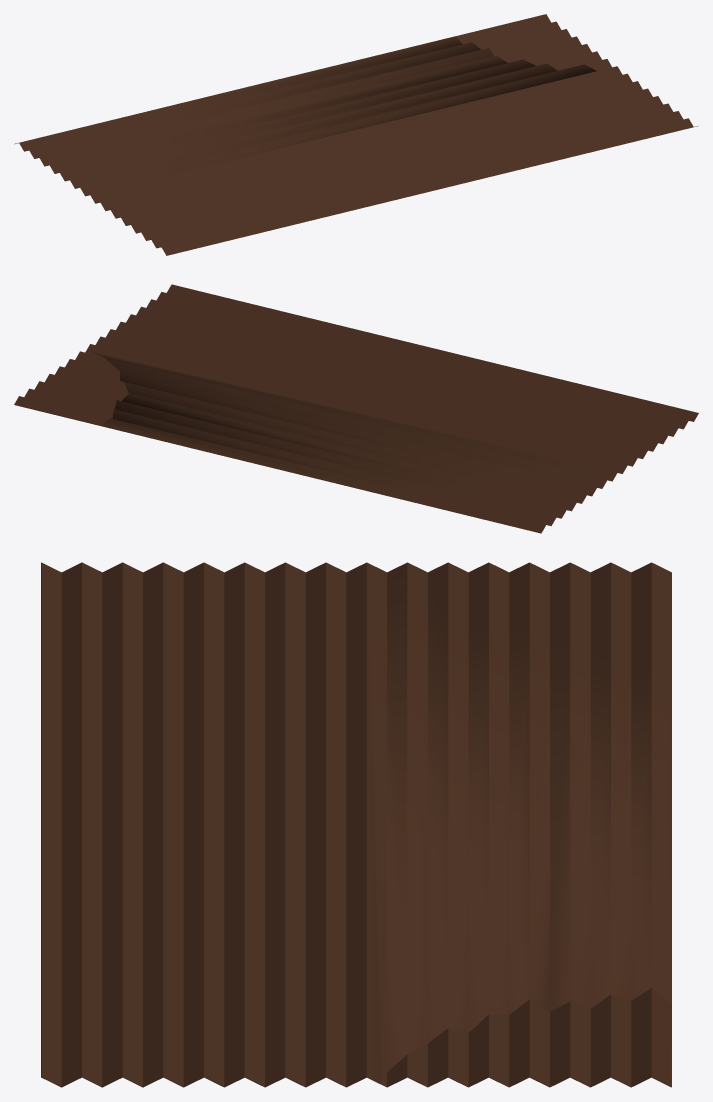
Rendered from scrapfull.fbx.
The picture shows the model from 3 angles, top to bottom: view 1: azimuth 30°, elevation 25°; view 2: azimuth 150°, elevation 25°; view 3: azimuth 270°, elevation 25°; orthographic projection. The views are drawn at different scales.
Visible parts, largest first — view 1: Plane; view 2: Plane; view 3: Plane.
Part boxes in pixels (<box>): Plane: <box>14,14,698,255</box>; Plane: <box>14,284,698,533</box>; Plane: <box>41,562,671,1087</box>.
Bounding box in the file's own units: 200 × 1.92 × 104.
